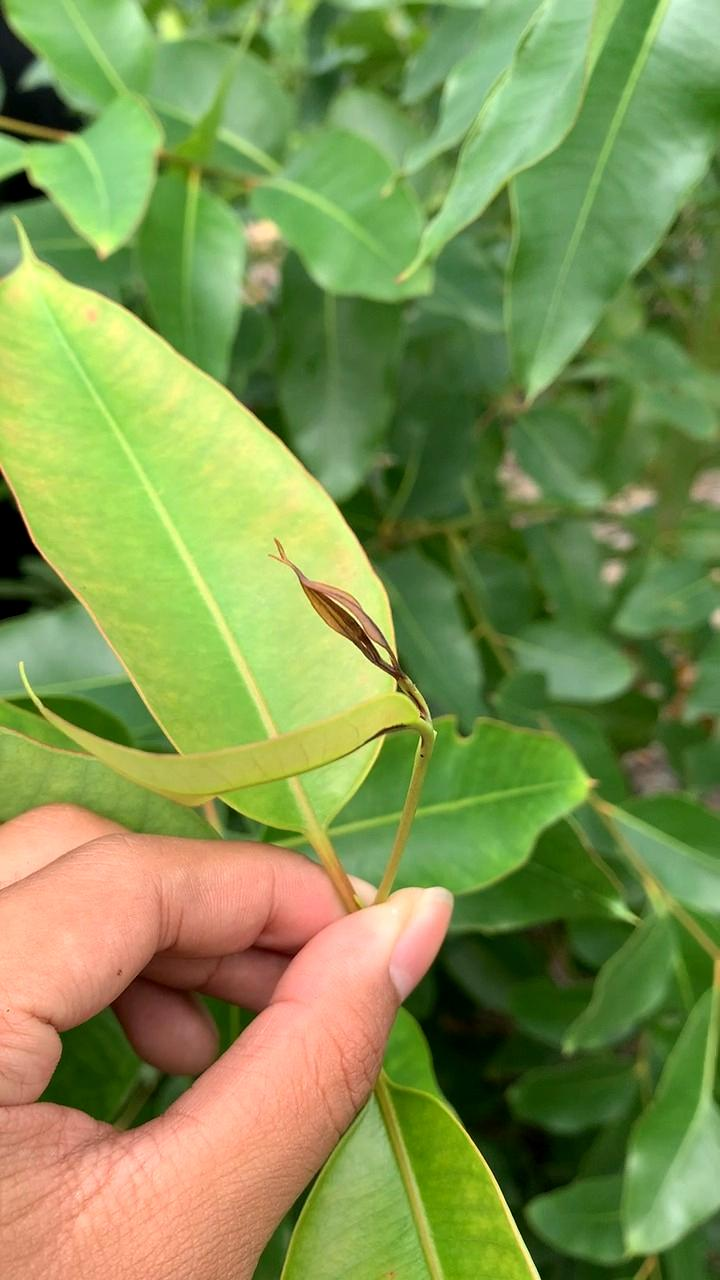Helopeltis-Withered Sprout: (278, 548, 453, 747)
